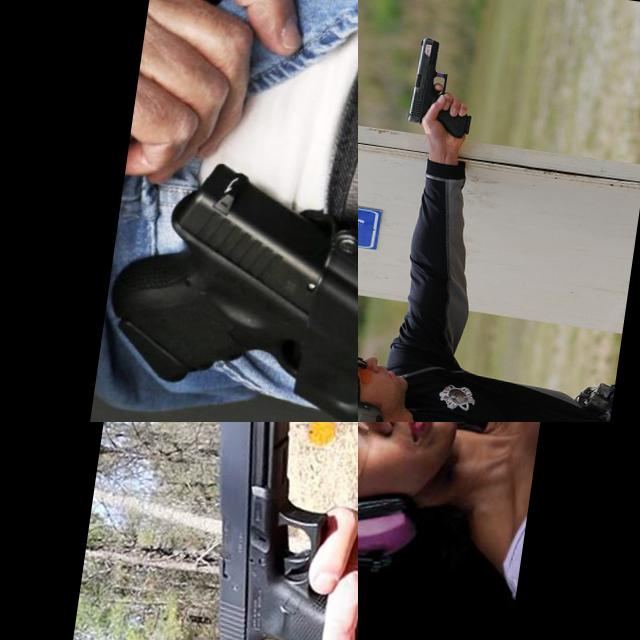handgun: (97, 144, 353, 404), (175, 422, 358, 640), (358, 422, 510, 495), (404, 32, 484, 140)
